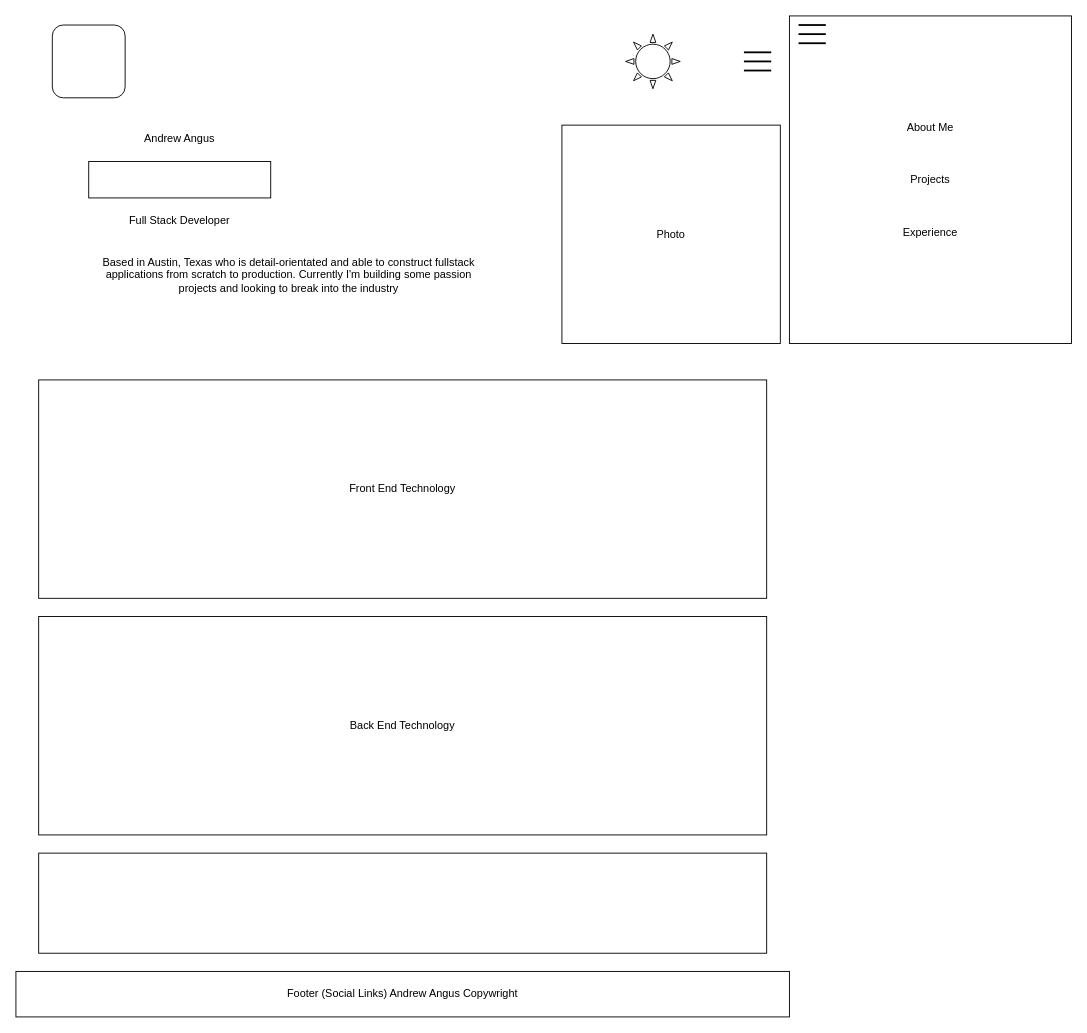
The diagram is 1087 pixels wide and 1033 high, and some of its shapes have lost their labels. Each missing label, with the box of its shape:
AA (Acts as Home Button): (51, 24, 125, 98)
Insert Signature Here: (88, 161, 271, 198)
Tools: (38, 852, 767, 953)
